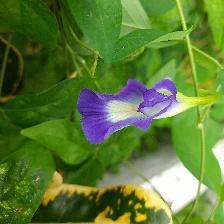shankupushpam: (77, 76, 192, 146)
